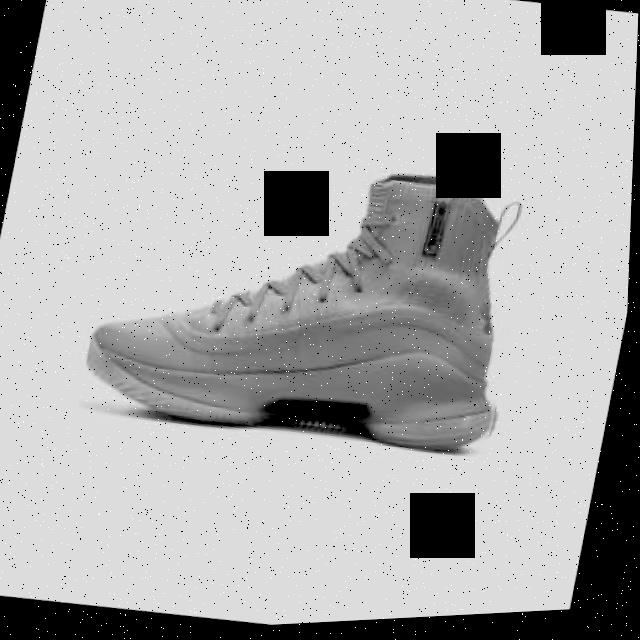shoe: (78, 126, 547, 480)
